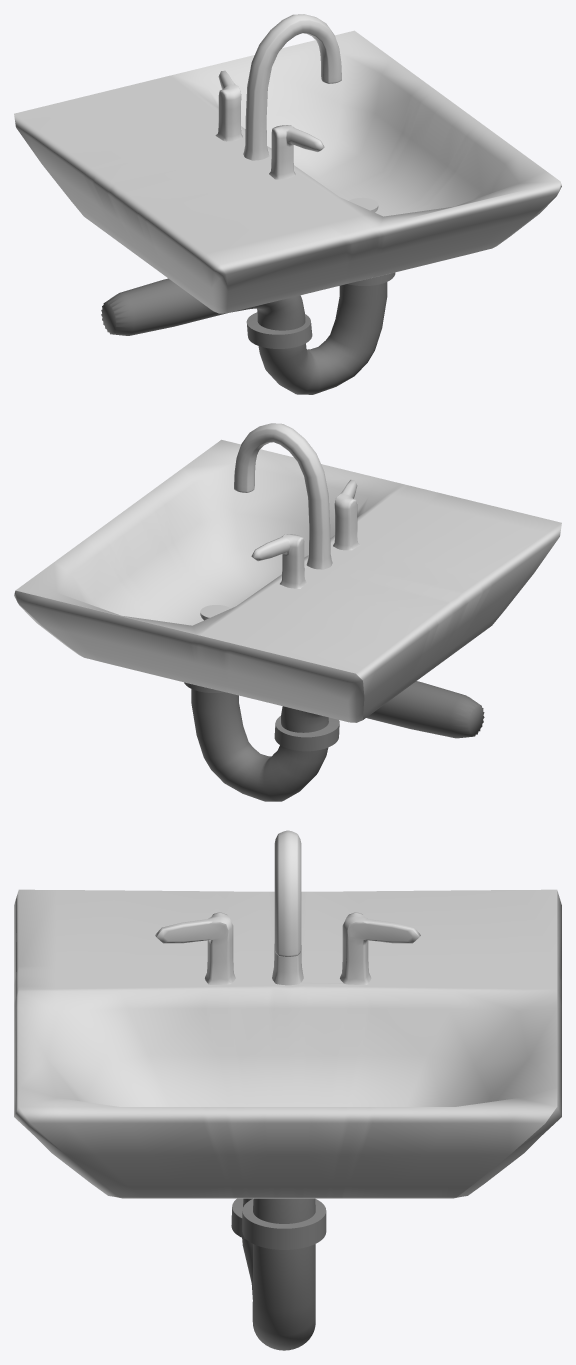
The model's file is simple_sink.glb.
3 renders of one model, top to bottom at view 1: azimuth 30°, elevation 25°; view 2: azimuth 150°, elevation 25°; view 3: azimuth 270°, elevation 25°, orthographic. The views are drawn at different scales.
Visible parts, largest first — view 1: polySurface2_drain_surface_0; view 2: polySurface2_drain_surface_0; view 3: polySurface2_drain_surface_0.
Part boxes in pixels (bbox=[...]): polySurface2_drain_surface_0: bbox=[14, 14, 561, 394]; polySurface2_drain_surface_0: bbox=[14, 423, 561, 801]; polySurface2_drain_surface_0: bbox=[14, 830, 561, 1350].
Size of the model in its own units: 51.01 by 51.44 by 51.56.
Materials: 1 (1 with a texture image).
